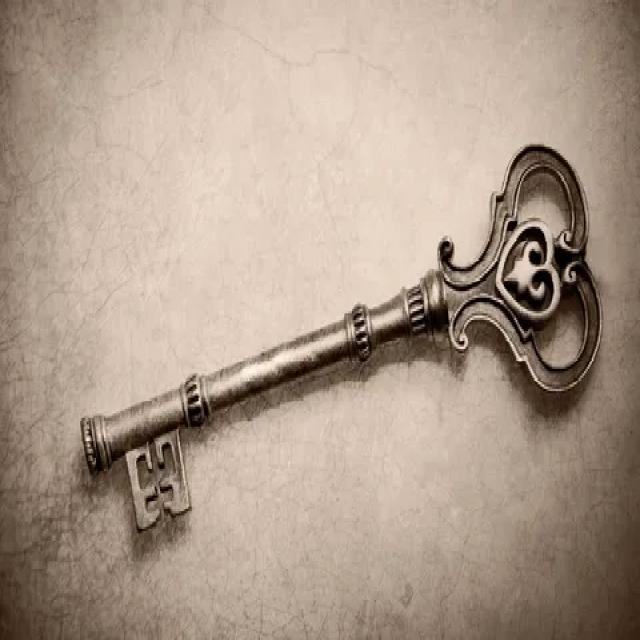key: (69, 126, 616, 543)
